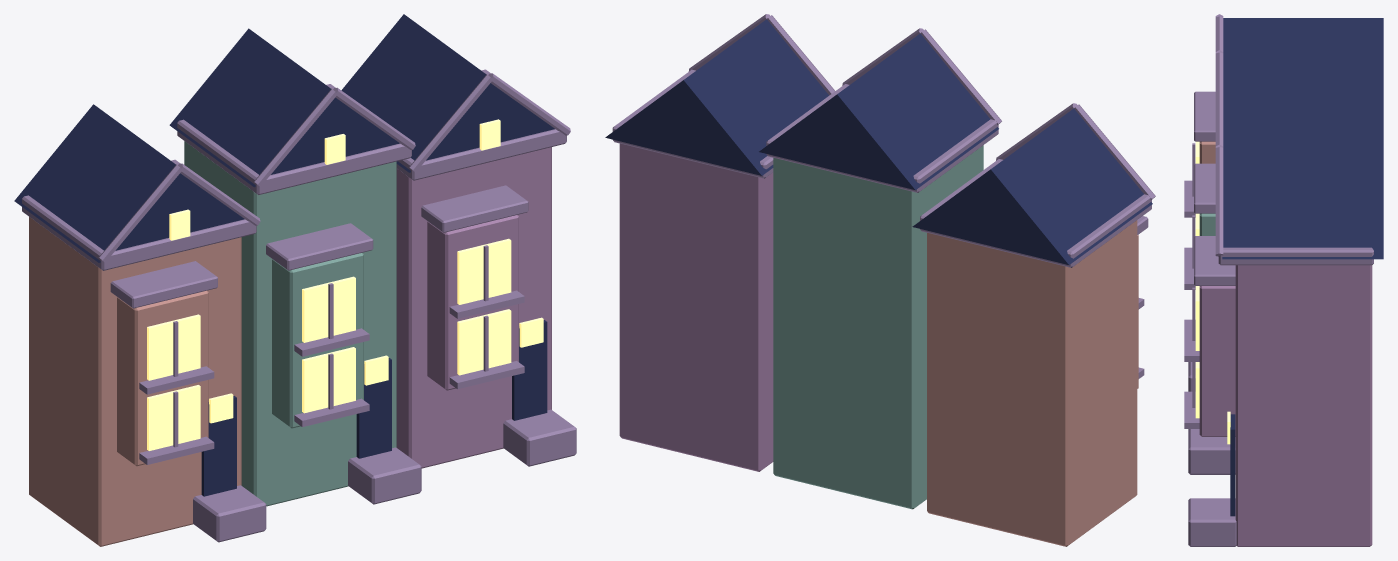
File: sfv2_painted_ladies.glb
The picture shows the model from 3 angles, left to right: view 1: azimuth 30°, elevation 25°; view 2: azimuth 150°, elevation 25°; view 3: azimuth 270°, elevation 25°; orthographic projection. The views are drawn at different scales.
Parts seen in each view (by area): view 1: sfv2_painted_ladies__sf_midnight_blue, sfv2_painted_ladies__sf_victorian_peach, sfv2_painted_ladies__sf_lavender_trim, sfv2_painted_ladies__sf_victorian_sage, sfv2_painted_ladies__sf_victorian_mauve, sfv2_painted_ladies__sf_emissive_window; view 2: sfv2_painted_ladies__sf_victorian_peach, sfv2_painted_ladies__sf_midnight_blue, sfv2_painted_ladies__sf_victorian_sage, sfv2_painted_ladies__sf_victorian_mauve, sfv2_painted_ladies__sf_lavender_trim; view 3: sfv2_painted_ladies__sf_victorian_mauve, sfv2_painted_ladies__sf_midnight_blue, sfv2_painted_ladies__sf_lavender_trim, sfv2_painted_ladies__sf_emissive_window, sfv2_painted_ladies__sf_victorian_peach, sfv2_painted_ladies__sf_victorian_sage.
Boxes of the visible parts, bbox=[...] form: sfv2_painted_ladies__sf_midnight_blue: bbox=[14, 14, 554, 496]; sfv2_painted_ladies__sf_victorian_peach: bbox=[29, 217, 241, 546]; sfv2_painted_ladies__sf_lavender_trim: bbox=[22, 69, 576, 542]; sfv2_painted_ladies__sf_victorian_sage: bbox=[184, 141, 396, 506]; sfv2_painted_ladies__sf_victorian_mauve: bbox=[396, 147, 551, 468]; sfv2_painted_ladies__sf_emissive_window: bbox=[147, 119, 543, 450]; sfv2_painted_ladies__sf_victorian_peach: bbox=[927, 220, 1138, 546]; sfv2_painted_ladies__sf_midnight_blue: bbox=[605, 19, 1152, 264]; sfv2_painted_ladies__sf_victorian_sage: bbox=[773, 145, 983, 509]; sfv2_painted_ladies__sf_victorian_mauve: bbox=[619, 143, 773, 471]; sfv2_painted_ladies__sf_lavender_trim: bbox=[612, 14, 1155, 378]; sfv2_painted_ladies__sf_victorian_mauve: bbox=[1199, 265, 1372, 546]; sfv2_painted_ladies__sf_midnight_blue: bbox=[1222, 18, 1383, 516]; sfv2_painted_ladies__sf_lavender_trim: bbox=[1184, 14, 1373, 546]; sfv2_painted_ladies__sf_emissive_window: bbox=[1195, 141, 1230, 444]; sfv2_painted_ladies__sf_victorian_peach: bbox=[1199, 141, 1215, 163]; sfv2_painted_ladies__sf_victorian_sage: bbox=[1199, 213, 1215, 235].
Bounding box in the file's own units: 37.86 × 31.57 × 14.56.
